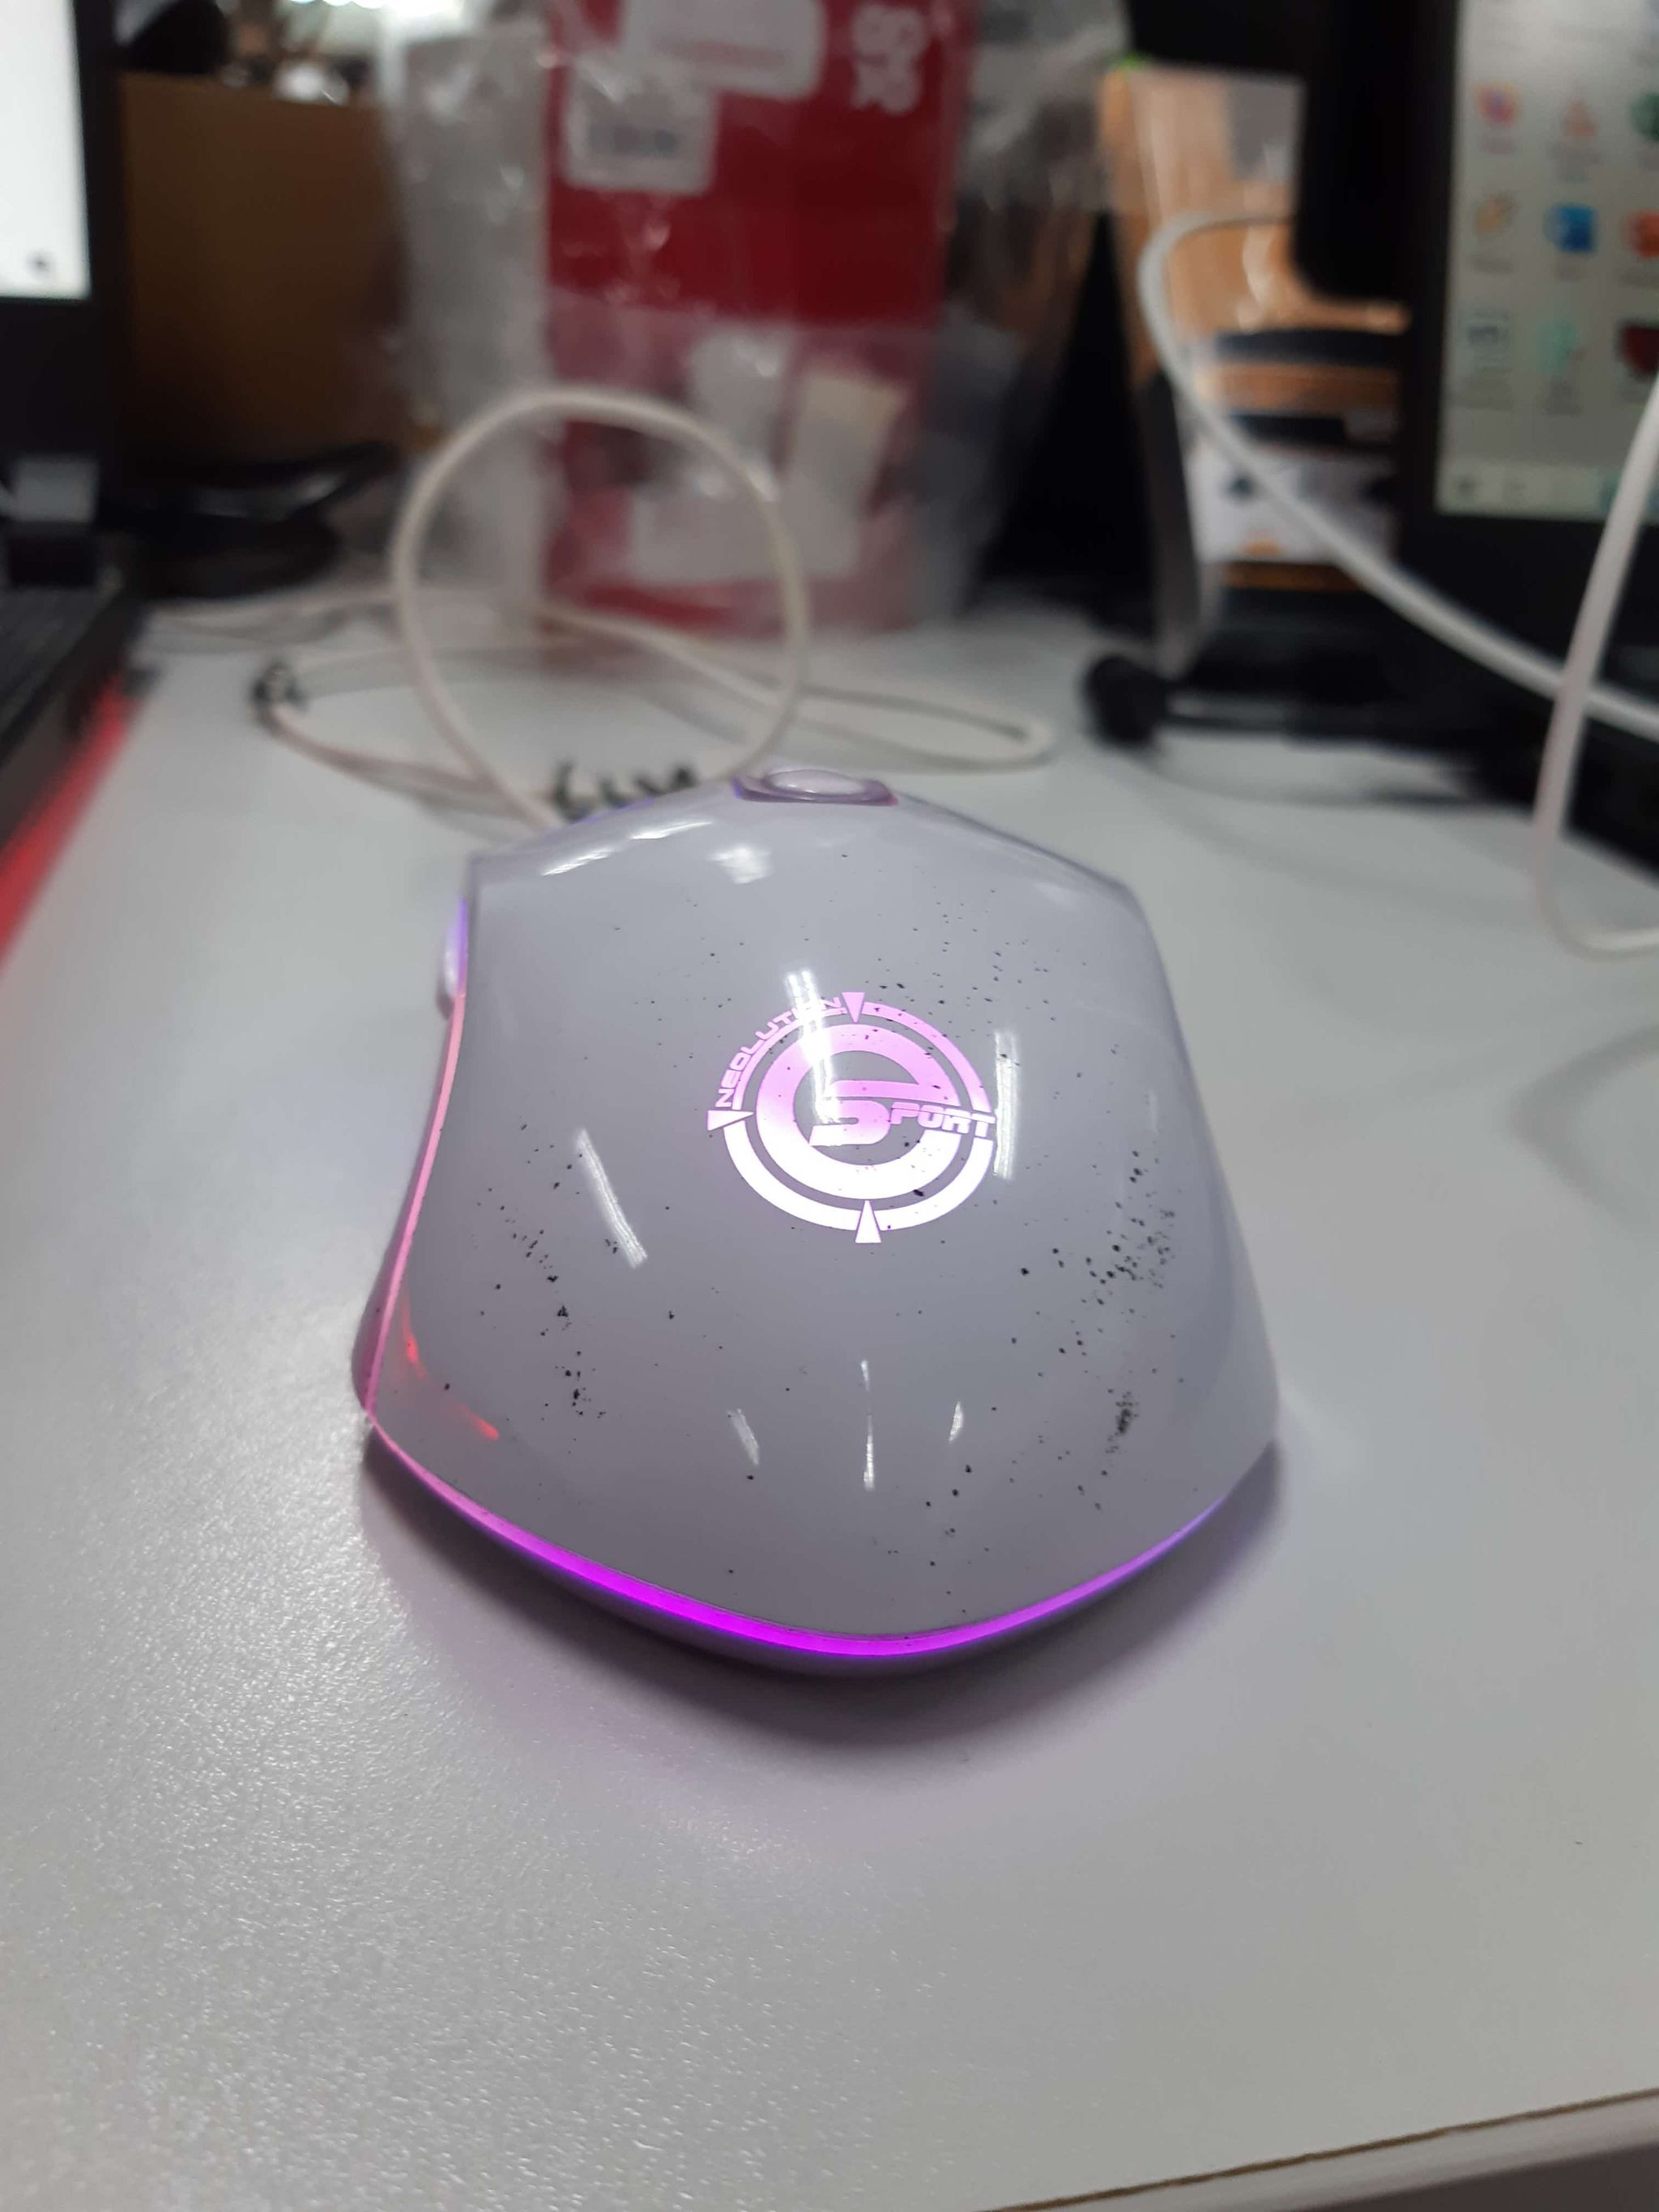mouse: (331, 763, 1283, 1684)
